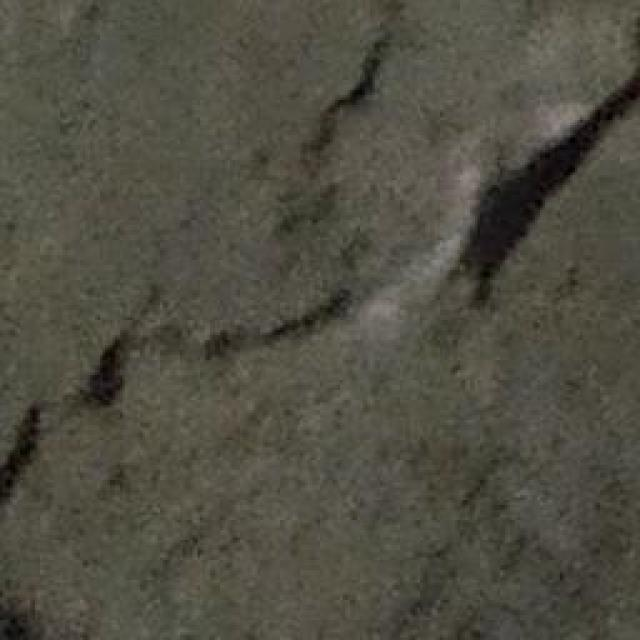Radial: (0, 0, 640, 492)
